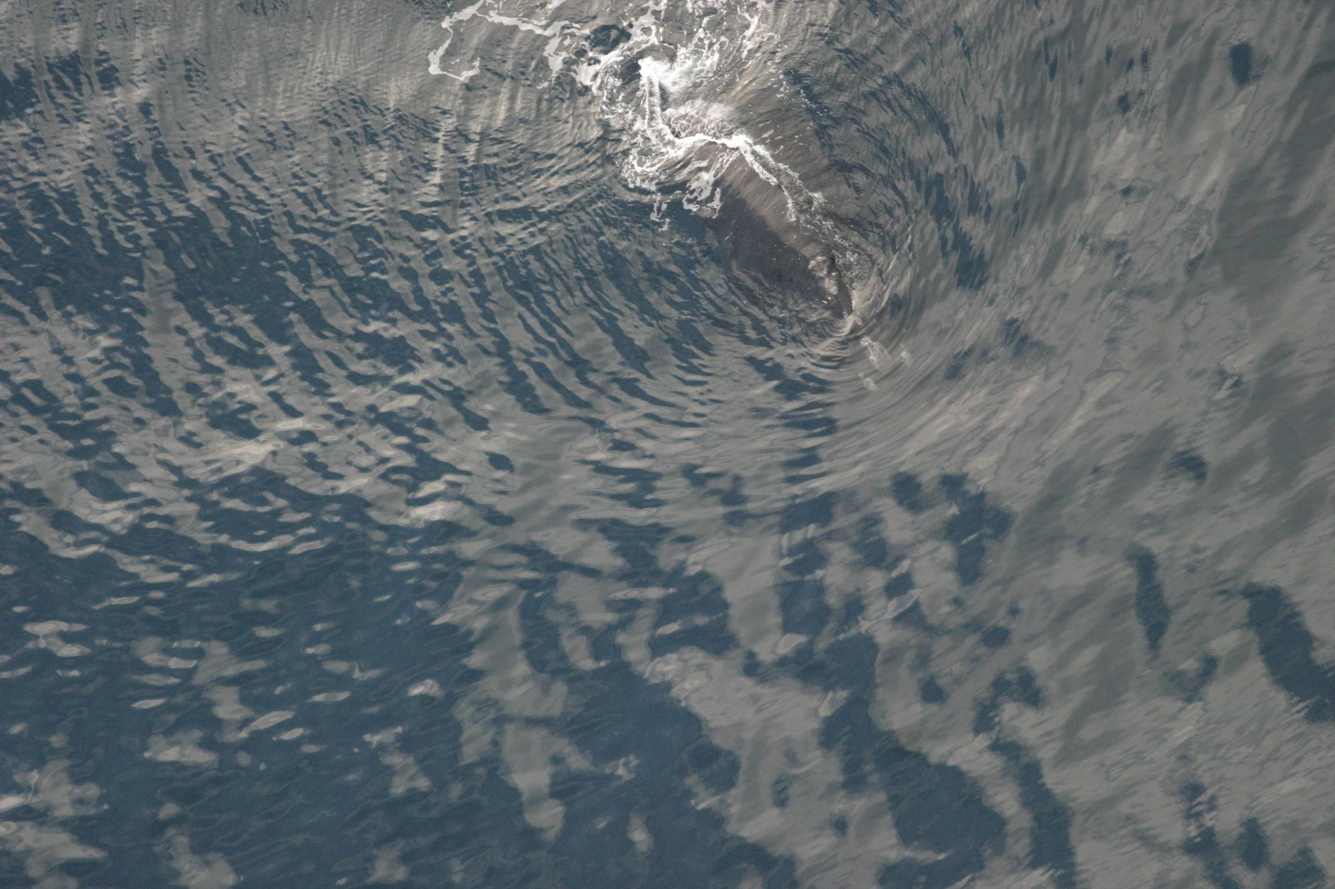whale: (594, 30, 920, 405)
